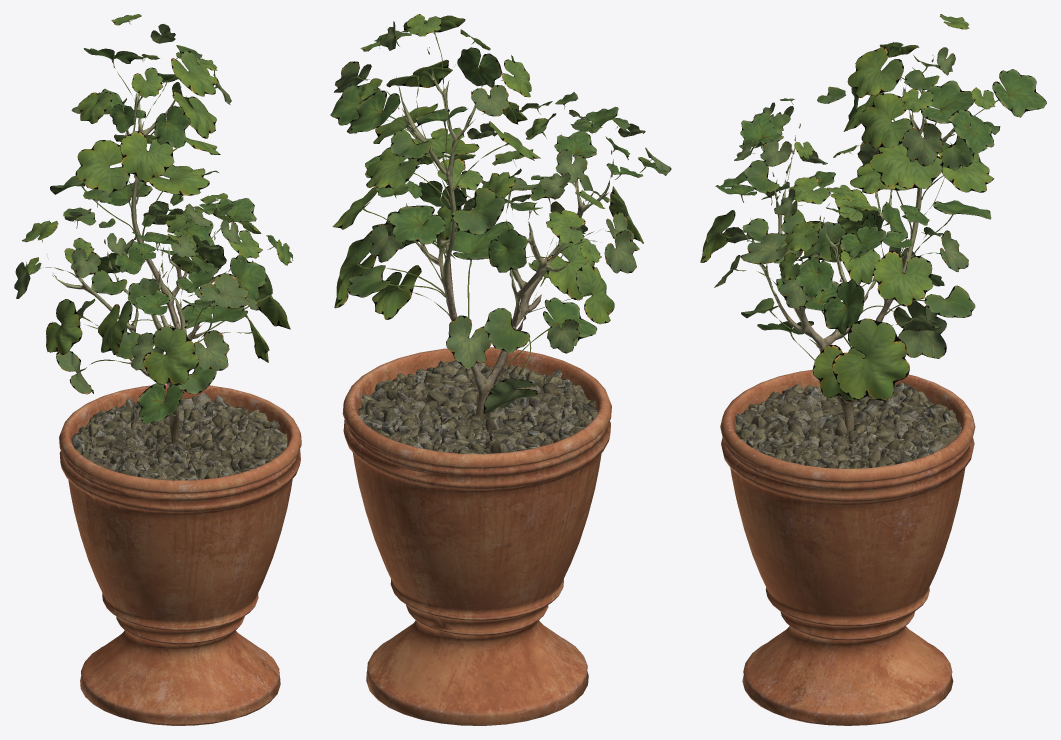
Rendered from potted_plant_01_web.gltf.
3 views of the same model, side by side, from view 1: azimuth 30°, elevation 25°; view 2: azimuth 150°, elevation 25°; view 3: azimuth 270°, elevation 25° (orthographic). The views are drawn at different scales.
Parts seen in each view (by area): view 1: potted_plant_01_pot, potted_plant_01_leaves, potted_plant_01_pebbles, potted_plant_01_stem; view 2: potted_plant_01_pot, potted_plant_01_leaves, potted_plant_01_pebbles, potted_plant_01_stem; view 3: potted_plant_01_pot, potted_plant_01_leaves, potted_plant_01_pebbles, potted_plant_01_stem.
Part boxes in pixels (x1,y1,x2,y2): potted_plant_01_pot: [59, 384, 301, 725]; potted_plant_01_leaves: [14, 14, 293, 423]; potted_plant_01_pebbles: [71, 392, 287, 480]; potted_plant_01_stem: [55, 92, 226, 442]; potted_plant_01_pot: [342, 347, 611, 725]; potted_plant_01_leaves: [330, 14, 671, 414]; potted_plant_01_pebbles: [358, 360, 597, 453]; potted_plant_01_stem: [398, 68, 612, 420]; potted_plant_01_pot: [720, 370, 975, 725]; potted_plant_01_leaves: [700, 14, 1046, 401]; potted_plant_01_pebbles: [735, 382, 961, 468]; potted_plant_01_stem: [751, 76, 953, 432].
Size of the model in its own units: 0.5871 by 1.34 by 0.6336.
Materials: 2 (2 with a texture image).
